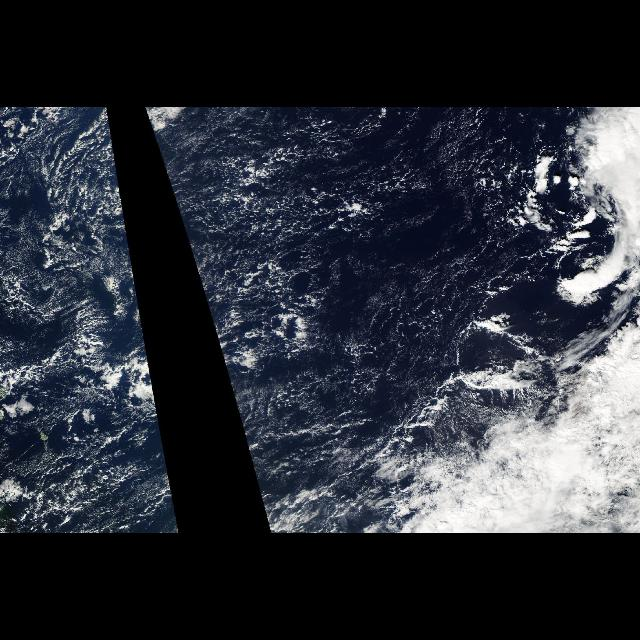Gravel: (196, 145, 398, 385), (5, 181, 138, 523)
